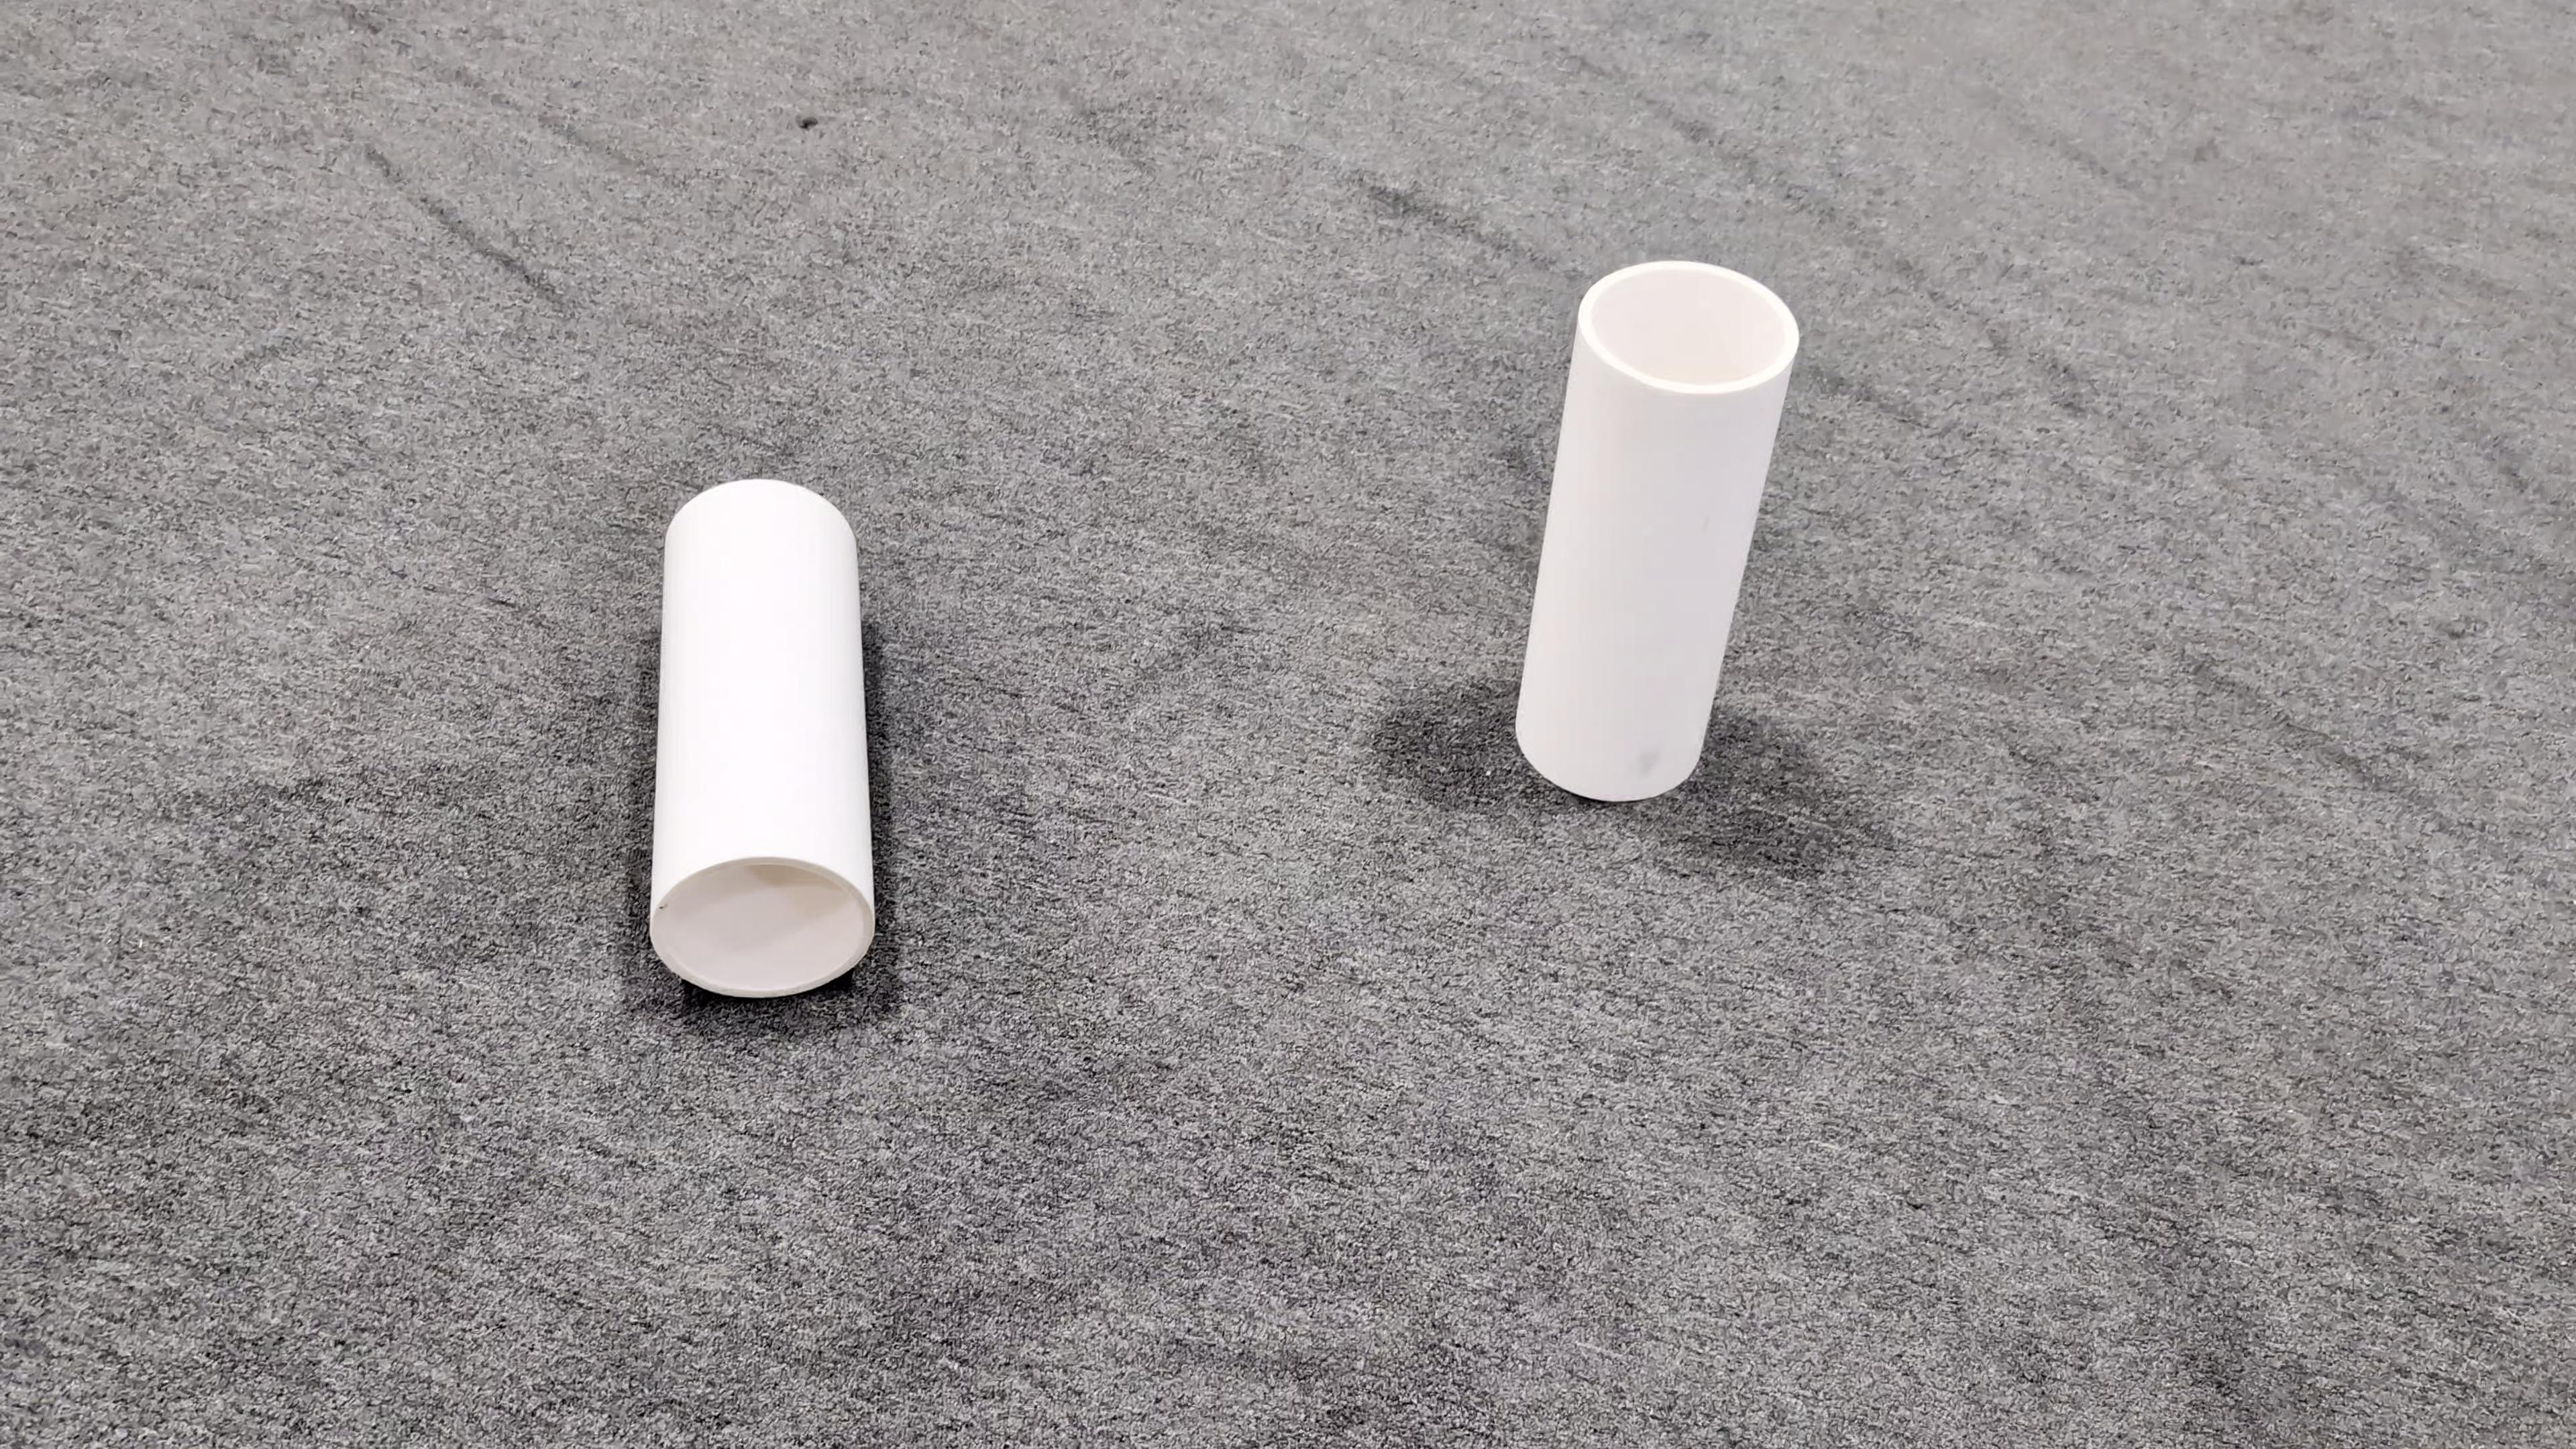coral: (1511, 260, 1801, 801), (644, 476, 878, 1000)
